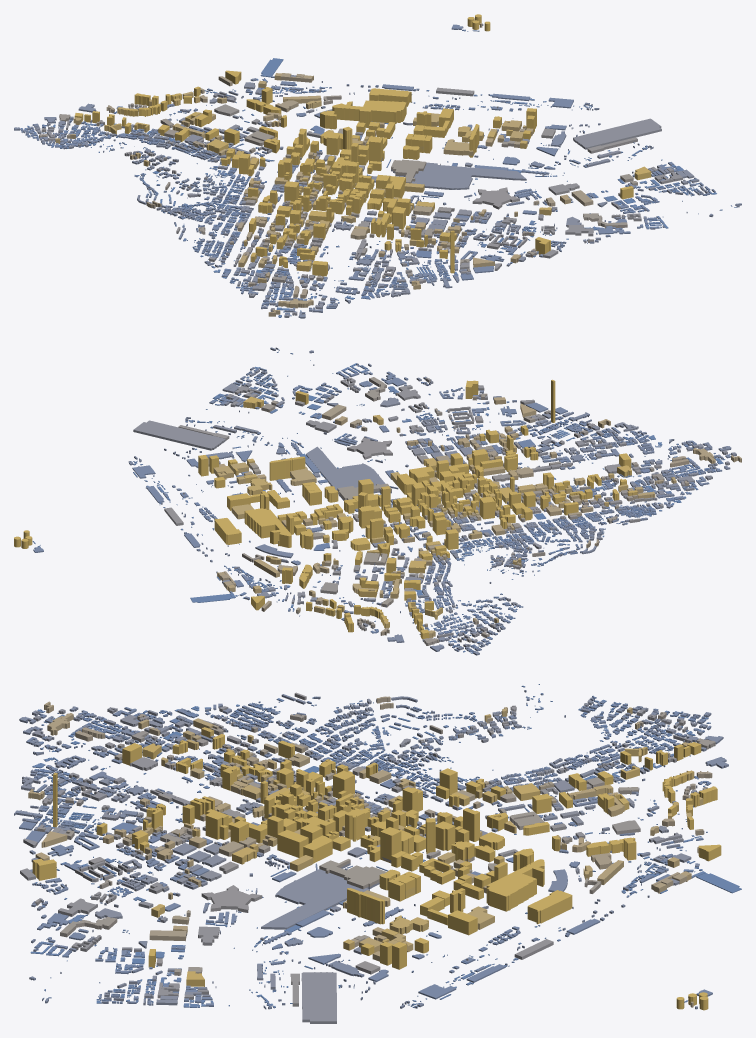
The model's file is buildings.glb.
3 views of the same model, one above another, from view 1: azimuth 30°, elevation 25°; view 2: azimuth 150°, elevation 25°; view 3: azimuth 270°, elevation 25° (orthographic). The views are drawn at different scales.
Parts seen in each view (by area): view 1: buildings; view 2: buildings; view 3: buildings.
Boxes of the visible parts, x1,y1,x2,y2 form: buildings: (14,14,741,318); buildings: (14,347,741,655); buildings: (14,684,741,1023).
Bounding box in the file's own units: 2808 × 257 × 2807.
